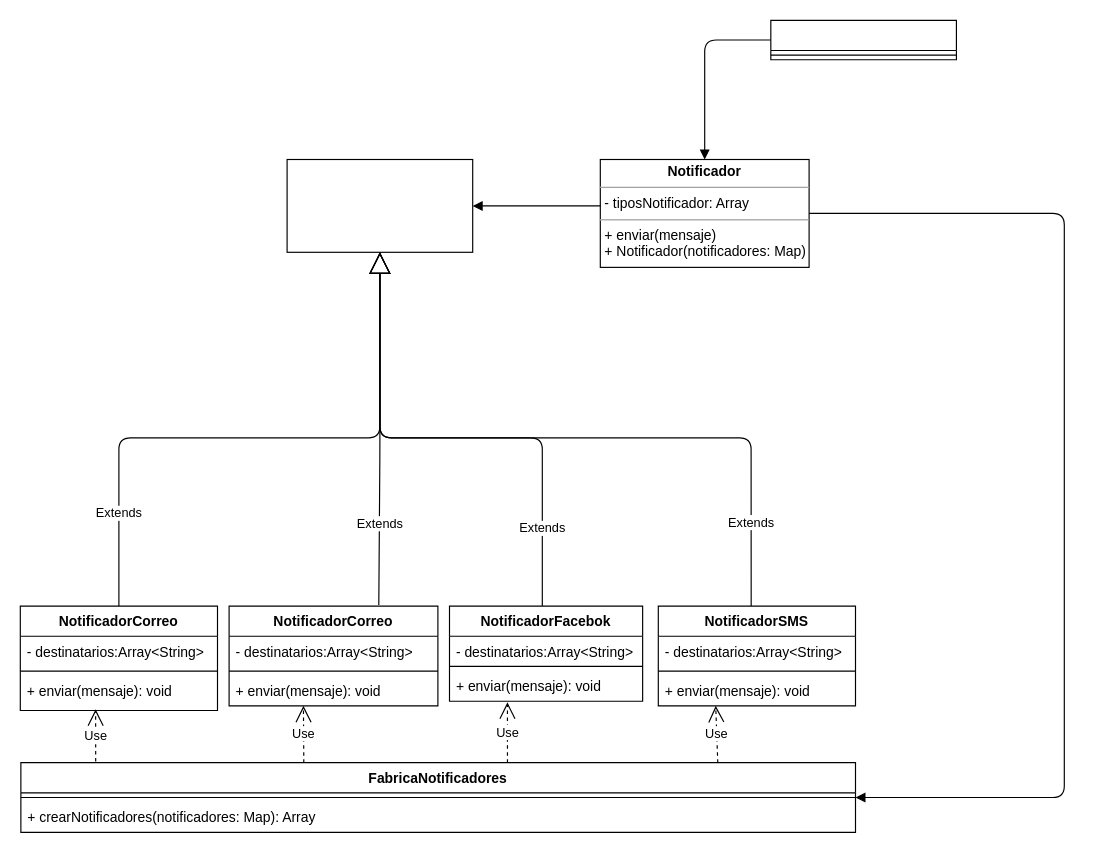
The diagram is 1094 pixels wide and 856 high, and some of its shapes have lost their labels. Each missing label, with the centre of its shape:
Aplicacion: (x=863, y=39)
TipoNotificador - destinatarios:Array<String> + enviar(mensaje): void: (x=379, y=205)
